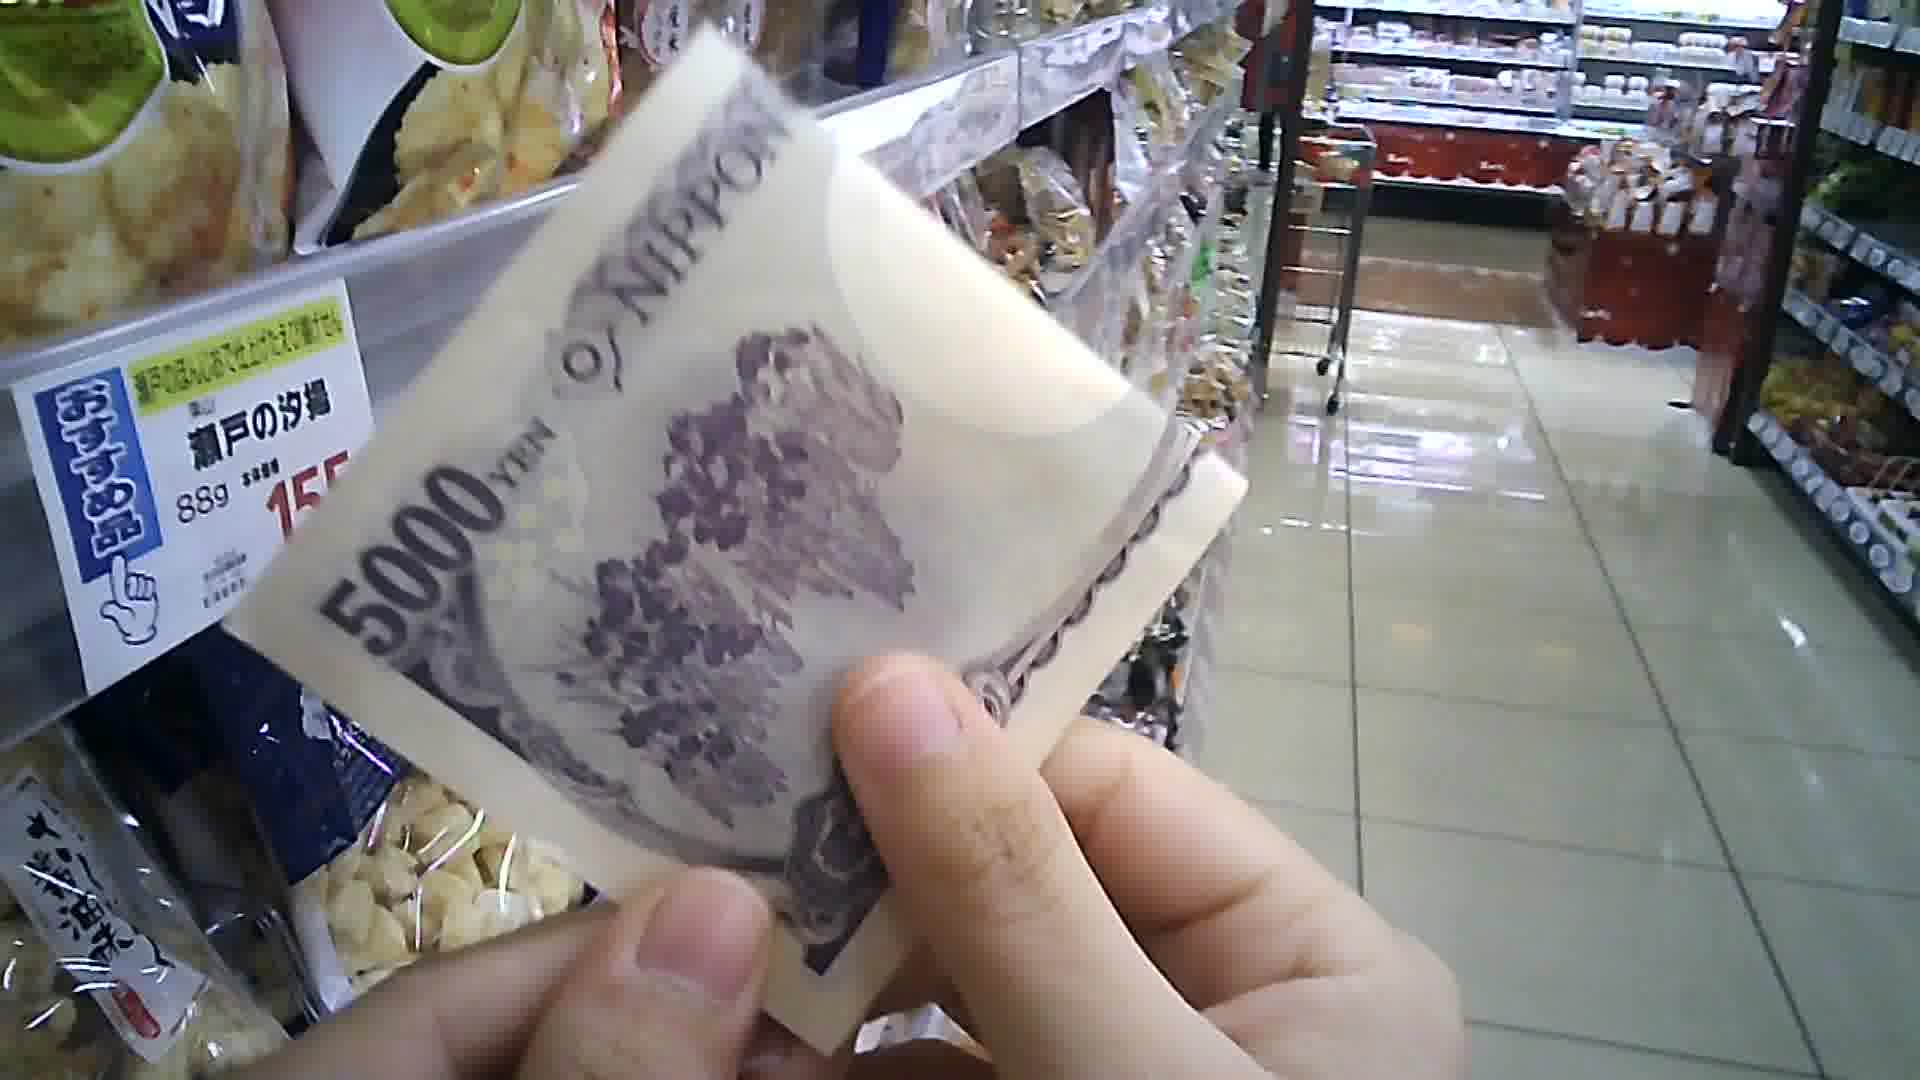5,000 Yen: (260, 26, 1242, 1034)
